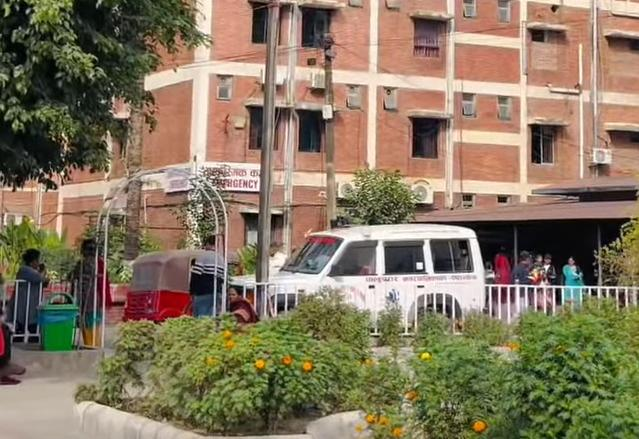ambulance: (233, 212, 490, 334)
